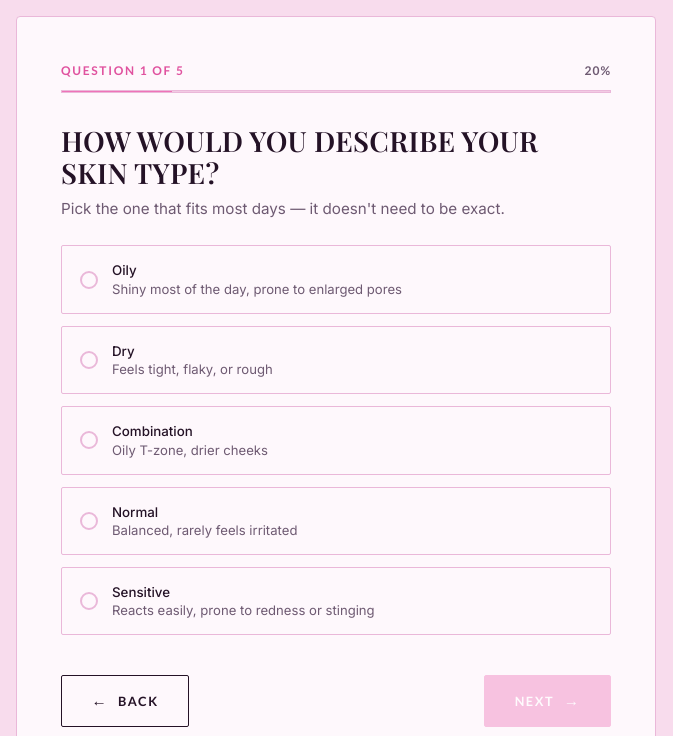
Scenario: QuizPage › enables Next once an option is selected, and advances through steps
Step 1. Click the radio button labelled "Oily Shiny most of the day, prone to enlarged pores" → (336, 280), box [61,246,611,314]
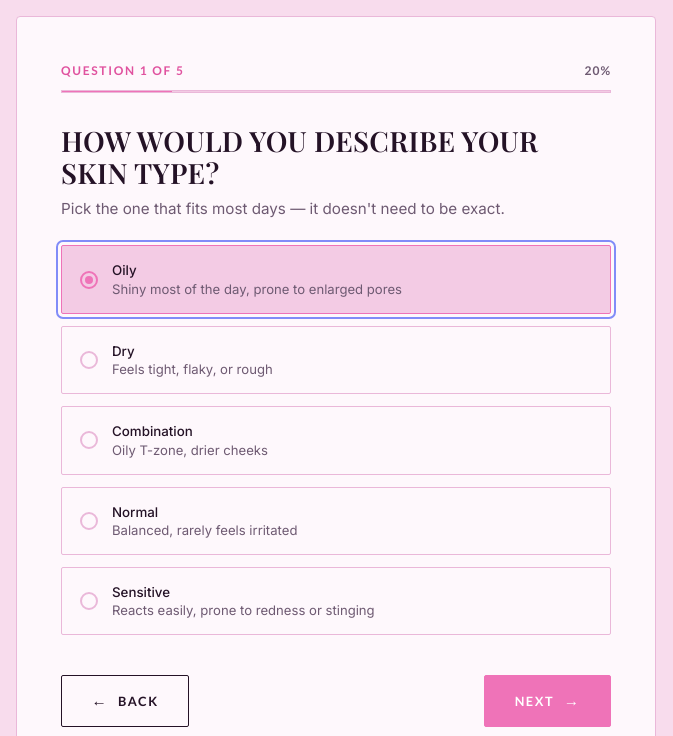
Expected: the button "Next" is enabled
Step 2. Click the button "Next" → (548, 701), box [484,675,611,727]
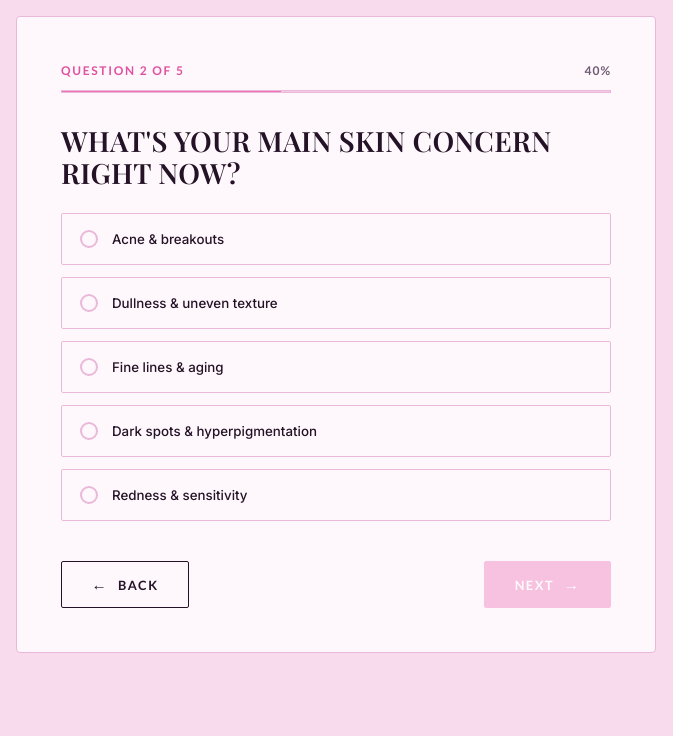
Expected: the heading "What's your main skin concern right now?" is shown, [61,125,611,189]
